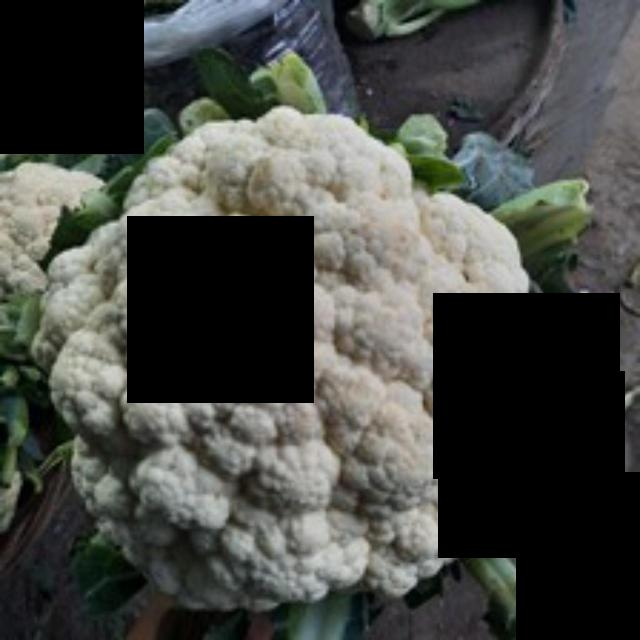cauliflower: (39, 91, 584, 626)
